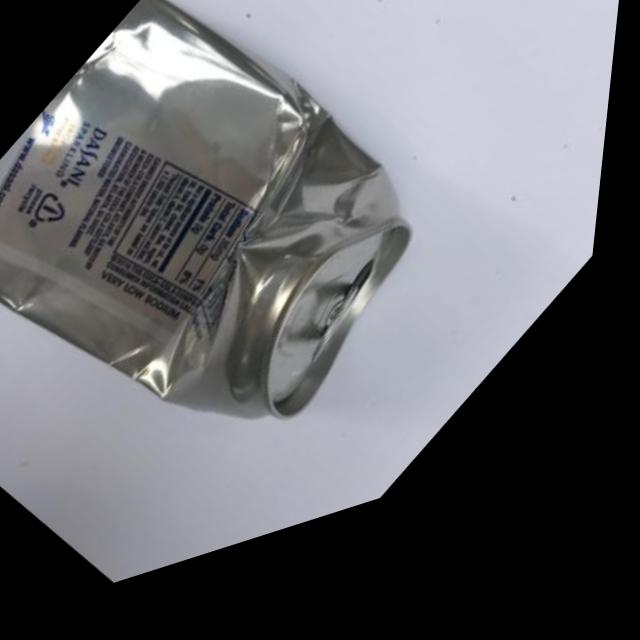metal: (0, 0, 531, 627)
